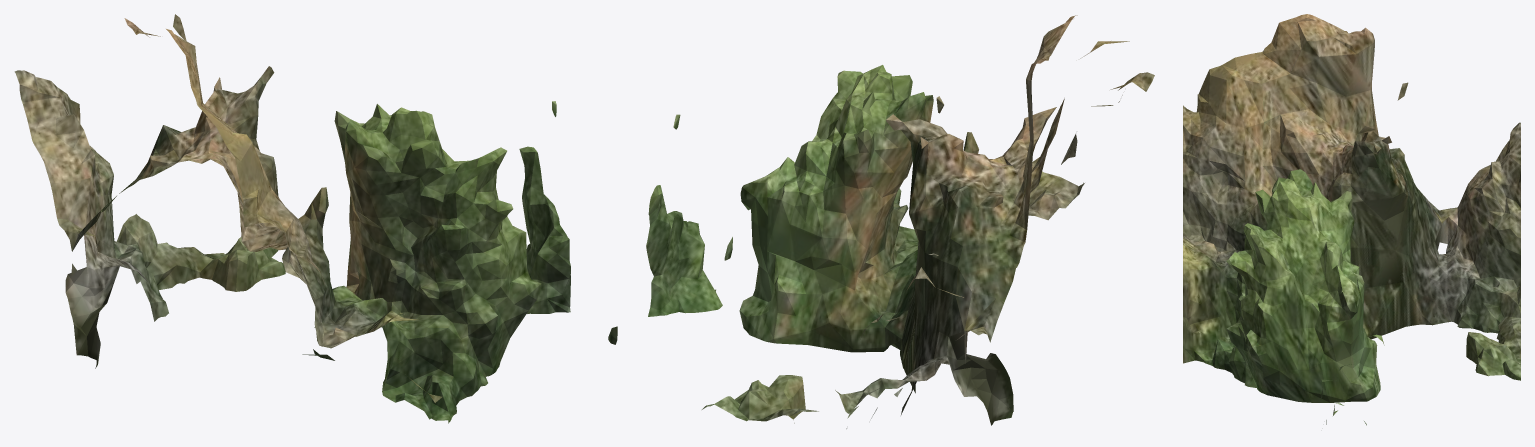
3 views of the same model, side by side, from view 1: azimuth 30°, elevation 25°; view 2: azimuth 150°, elevation 25°; view 3: azimuth 270°, elevation 25° (orthographic). The views are drawn at different scales.
Size of the model in its own units: 11.8 by 10.65 by 11.8.
4 materials, 4 textured.
